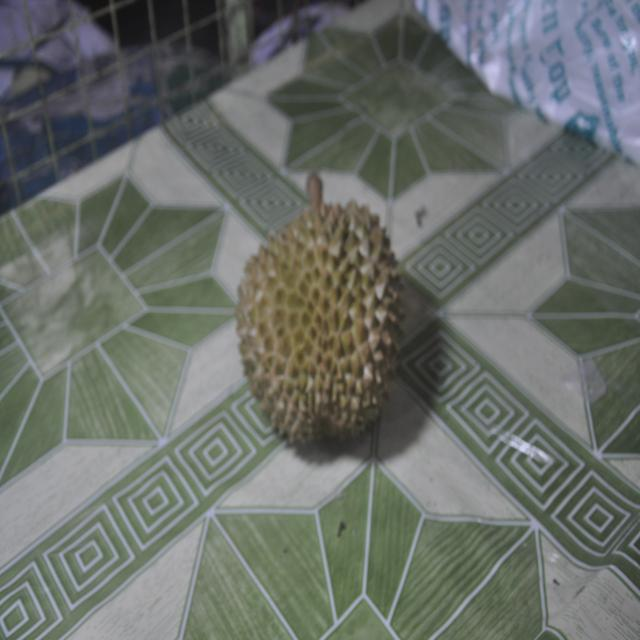mature: (222, 156, 440, 516)
